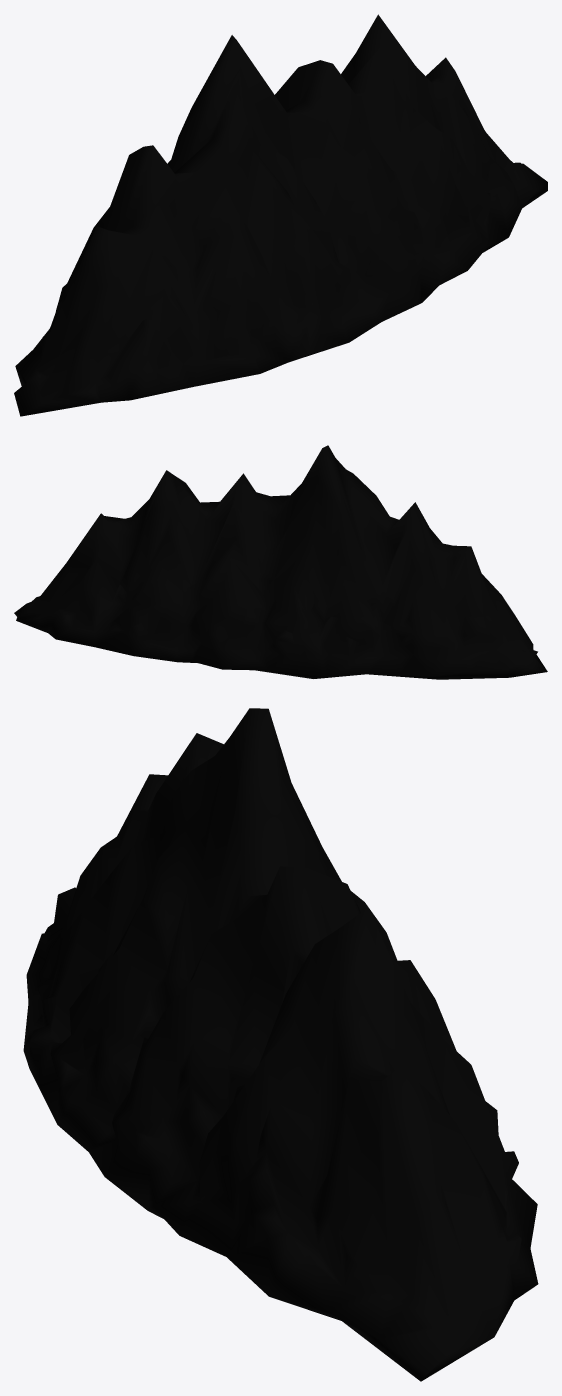
File: range-a-far.glb
The picture shows the model from 3 angles, top to bottom: view 1: azimuth 30°, elevation 25°; view 2: azimuth 150°, elevation 25°; view 3: azimuth 270°, elevation 25°; orthographic projection. The views are drawn at different scales.
Visible parts, largest first — view 1: range-a-far; view 2: range-a-far; view 3: range-a-far.
Part boxes in pixels (x1,y1,x2,y2): range-a-far: [14, 14, 547, 416]; range-a-far: [14, 445, 547, 679]; range-a-far: [23, 708, 538, 1381].
Size of the model in its own units: 1.9 by 0.8163 by 0.9235.
Materials: 1 (1 with a texture image).
